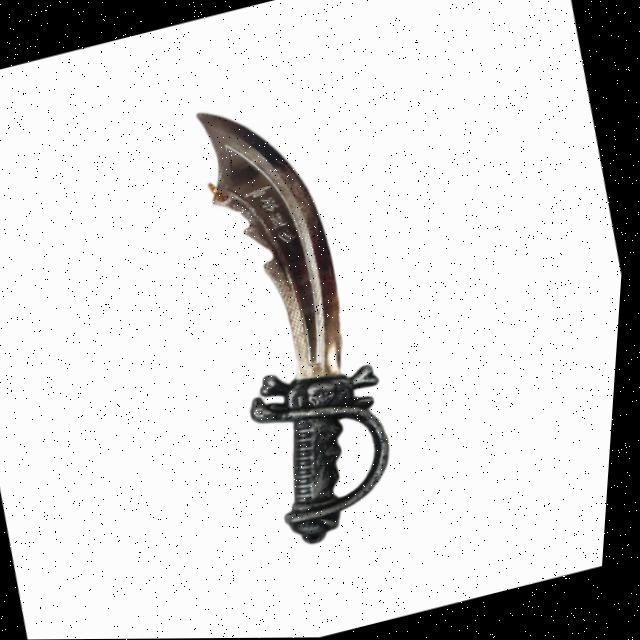knife: (171, 78, 435, 556)
